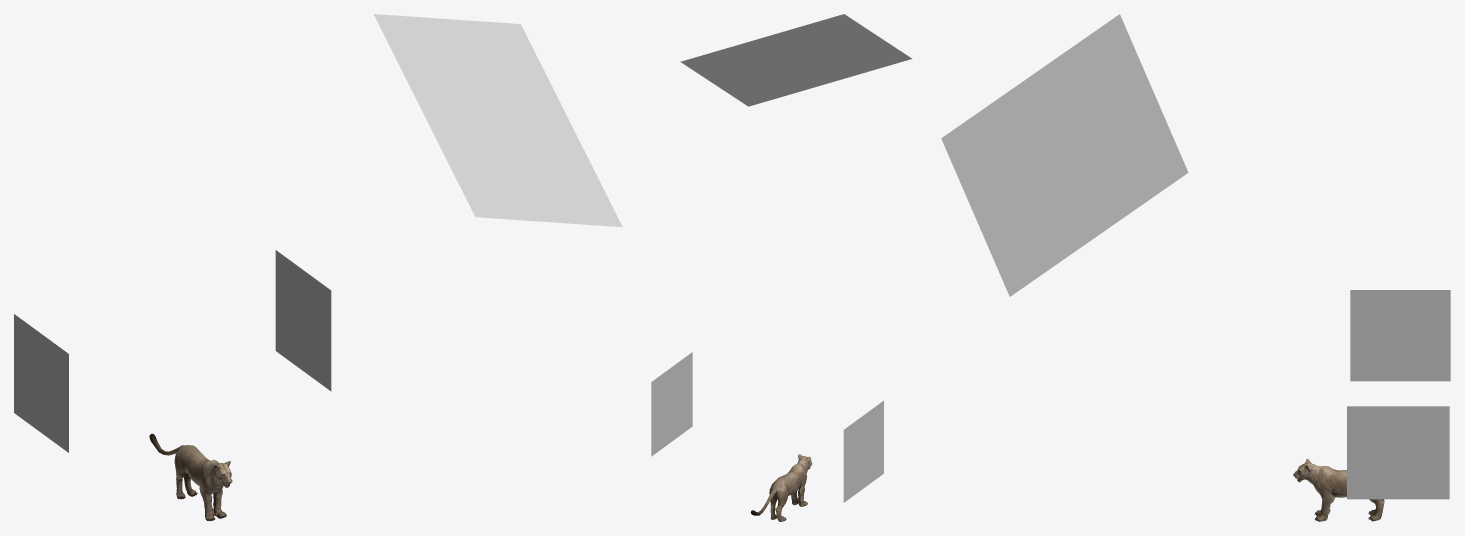
Rendered from Lion.fbx.
The picture shows the model from 3 angles, left to right: view 1: azimuth 30°, elevation 25°; view 2: azimuth 150°, elevation 25°; view 3: azimuth 270°, elevation 25°; orthographic projection. The views are drawn at different scales.
Parts seen in each view (by area): view 1: softbox2, softbox3, softbox1, Lion; view 2: softbox2, softbox3, softbox1, Lion; view 3: softbox2, softbox3, softbox1, Lion.
Part boxes in pixels (x1,y1,x2,y2): softbox2: (373, 14, 622, 227); softbox3: (275, 250, 331, 391); softbox1: (14, 314, 68, 452); Lion: (149, 433, 232, 521); softbox2: (680, 14, 912, 106); softbox3: (651, 352, 692, 456); softbox1: (843, 400, 883, 502); Lion: (751, 454, 812, 521); softbox2: (941, 14, 1188, 296); softbox3: (1347, 406, 1449, 499); softbox1: (1350, 290, 1450, 381); Lion: (1293, 458, 1384, 521).
Size of what is drawn, in the model's own units: 9.89 by 14.68 by 12.89.
